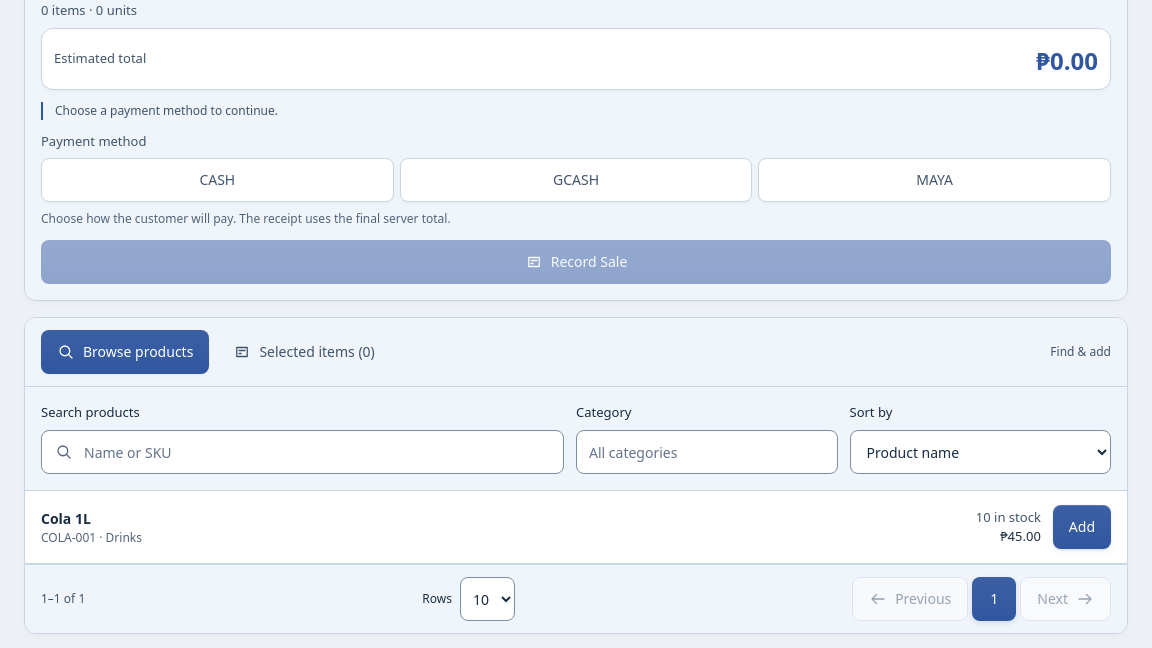
Test: NewSalePage › submits only productId, quantity and payment method, then renders the server receipt
(page scrolled)
Click the button "Add".
click(1082, 527)  # box left=1053, top=505, right=1111, bottom=549
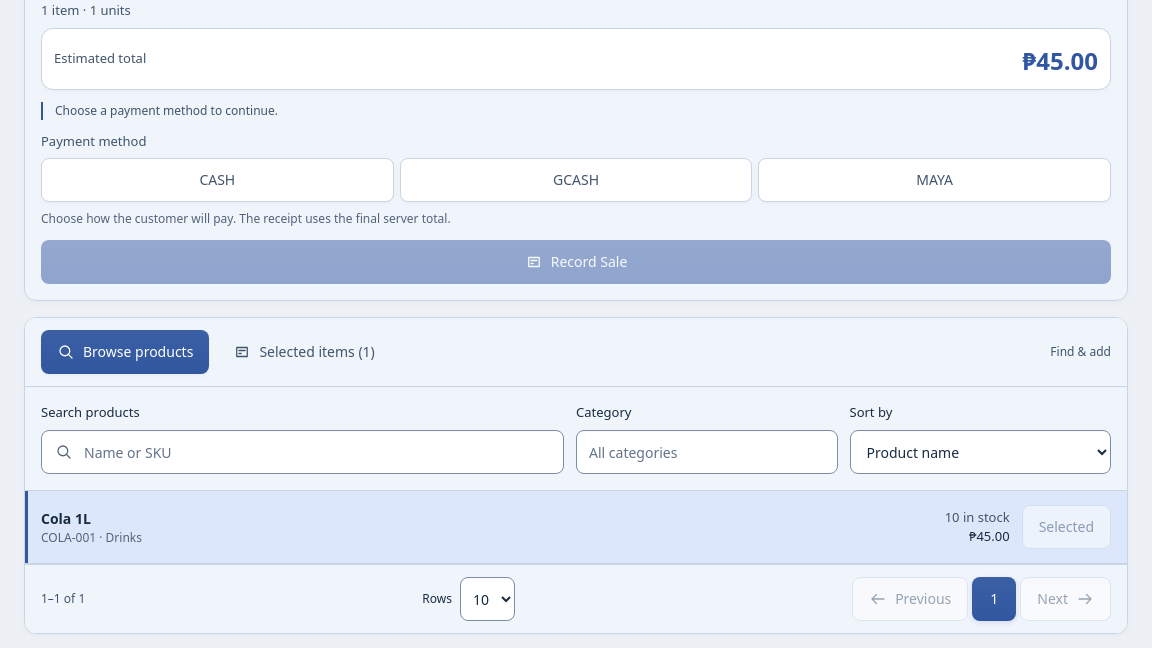
Click the button "CASH".
click(217, 180)  # box left=41, top=158, right=394, bottom=202
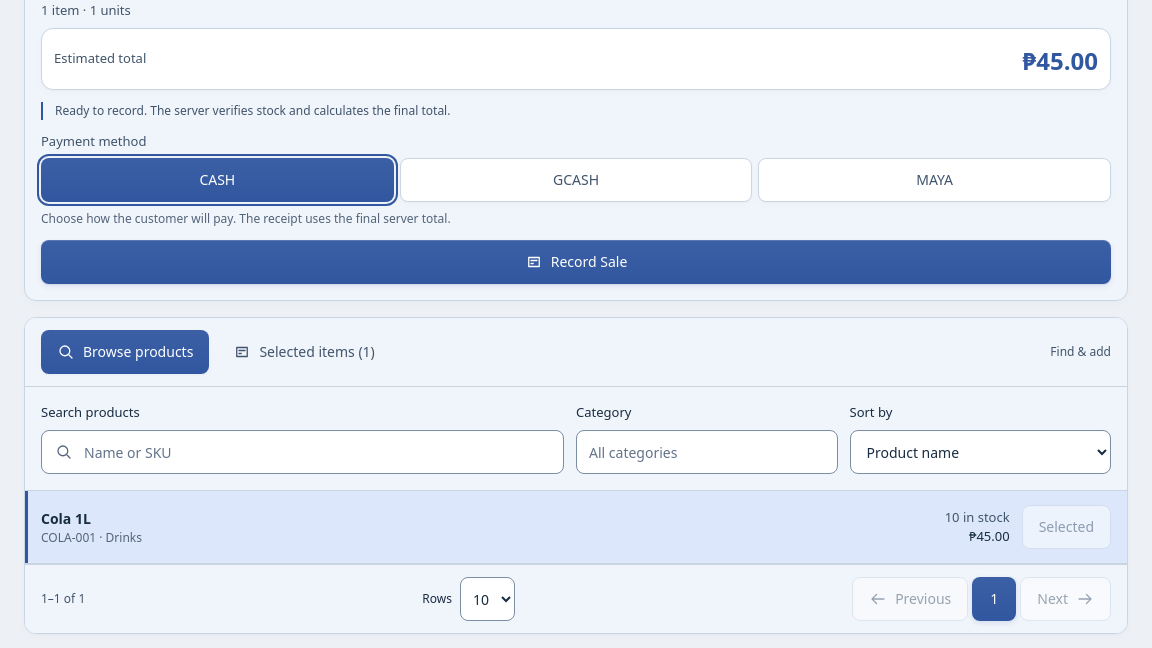
Click the button "Record Sale".
click(576, 262)  # box left=41, top=240, right=1111, bottom=284
(page scrolled)
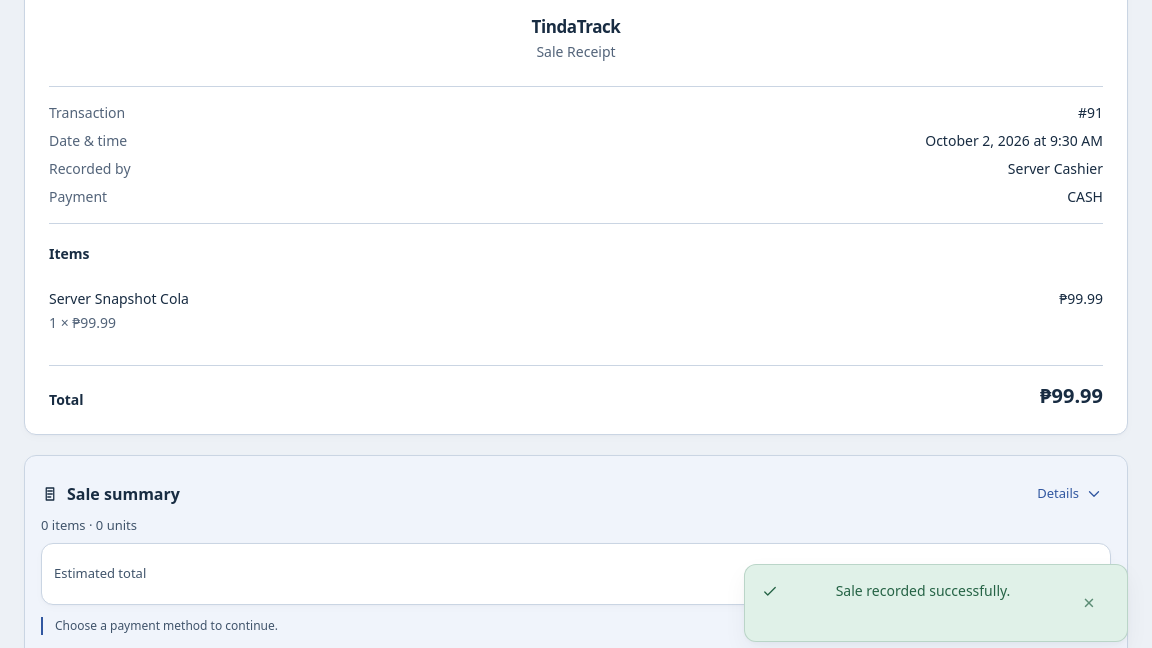
expect the text "Sale Receipt" is shown: met, box left=536, top=42, right=616, bottom=62
expect the text "Server Snapshot Cola" is shown: met, box left=49, top=288, right=189, bottom=310
expect the text "Server Cashier" is shown: met, box left=1008, top=160, right=1103, bottom=180
